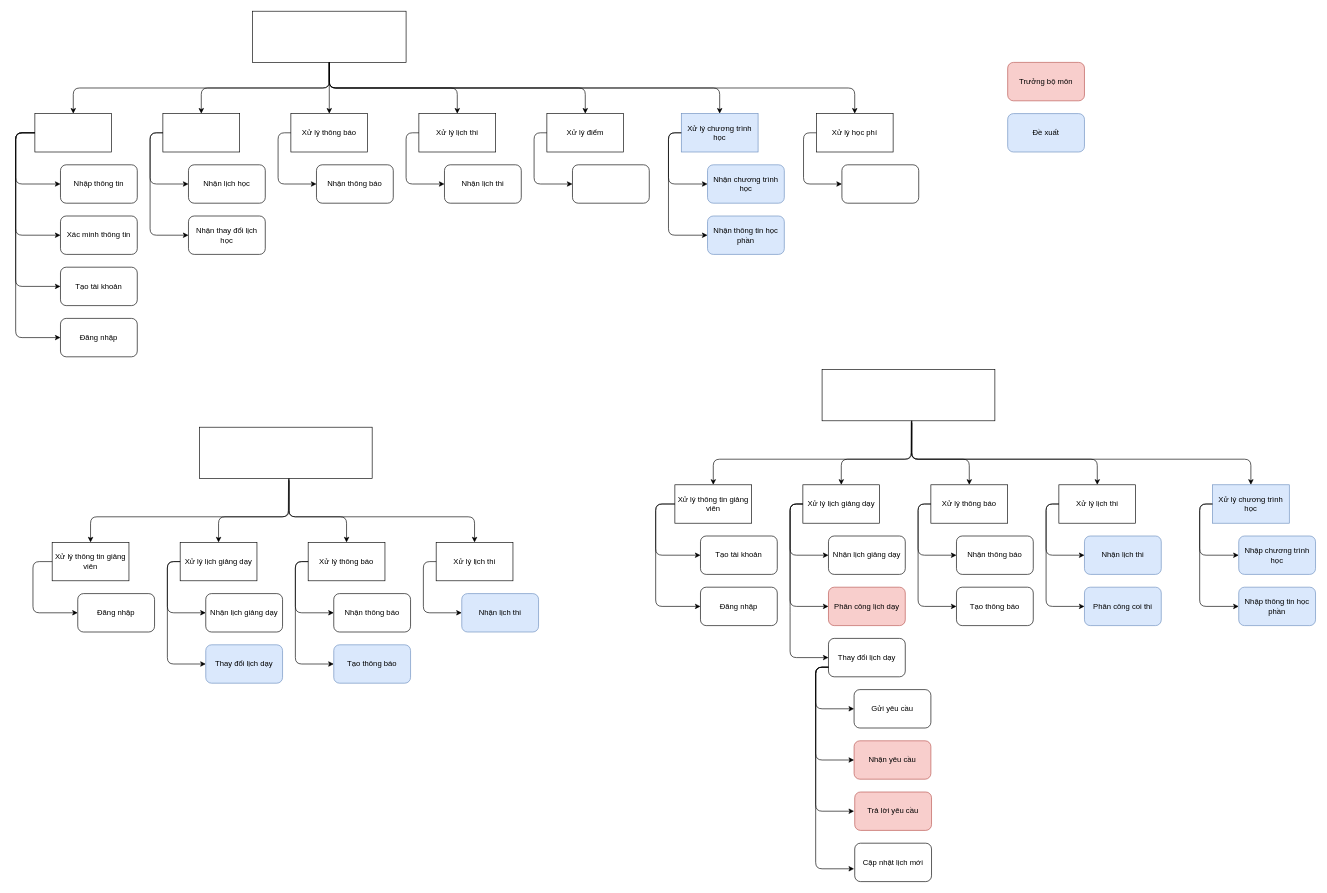
The diagram is 1327 pixels wide and 893 high, and some of its shapes have lost their labels. Here are the shapes that lost their labels. From the top down, the centre of each, then its label:
At [329,36]: "App Quản lý đào tạo cho sinh viên".
At [73,132]: "Xử lý thông tin sinh viên".
At [201,132]: "Xử lý lịch học".
At [610,183]: "Nhận điểm".
At [880,183]: "Nhận học phí".
At [908,395]: "Web - Giảng viên".
At [285,452]: "App Quản lý đào tạo cho giảng viên".
